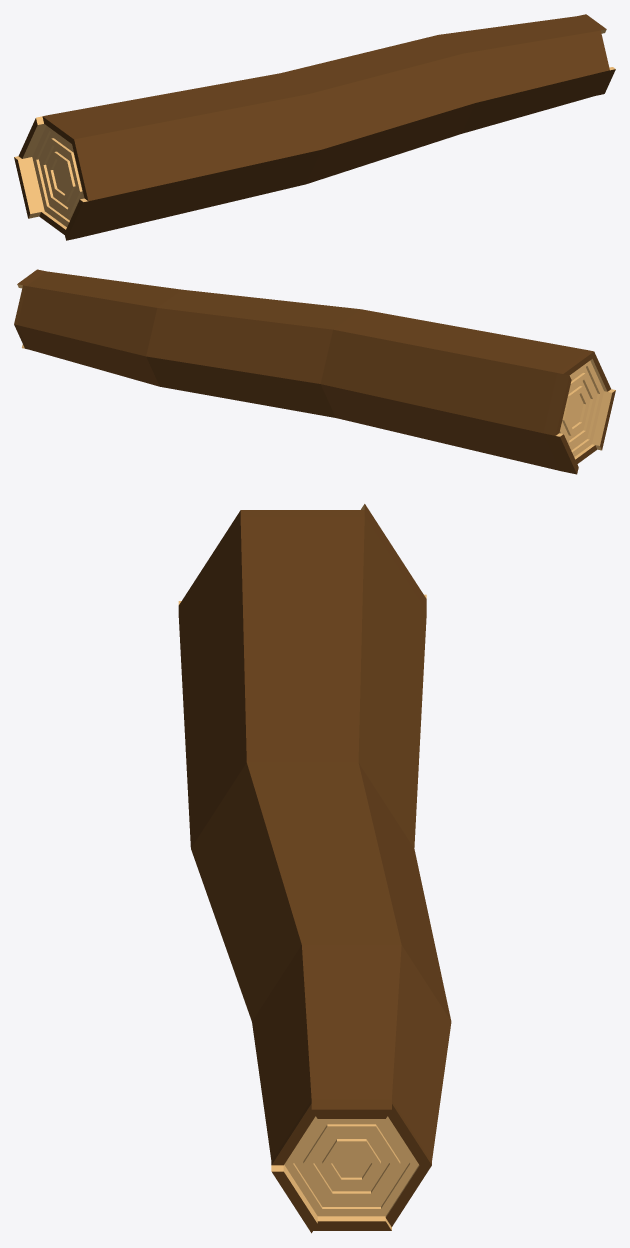
Rendered from troncoLongo1.fbx.
The picture shows the model from 3 angles, top to bottom: view 1: azimuth 30°, elevation 25°; view 2: azimuth 150°, elevation 25°; view 3: azimuth 270°, elevation 25°; orthographic projection. The views are drawn at different scales.
Visible parts, largest first — view 1: Circle.006; view 2: Circle.006; view 3: Circle.006.
Part boxes in pixels (x1,y1,x2,y2): Circle.006: [14, 14, 615, 240]; Circle.006: [14, 269, 615, 474]; Circle.006: [178, 504, 451, 1233].
Size of the model in its own units: 11.61 by 2.05 by 2.48.
